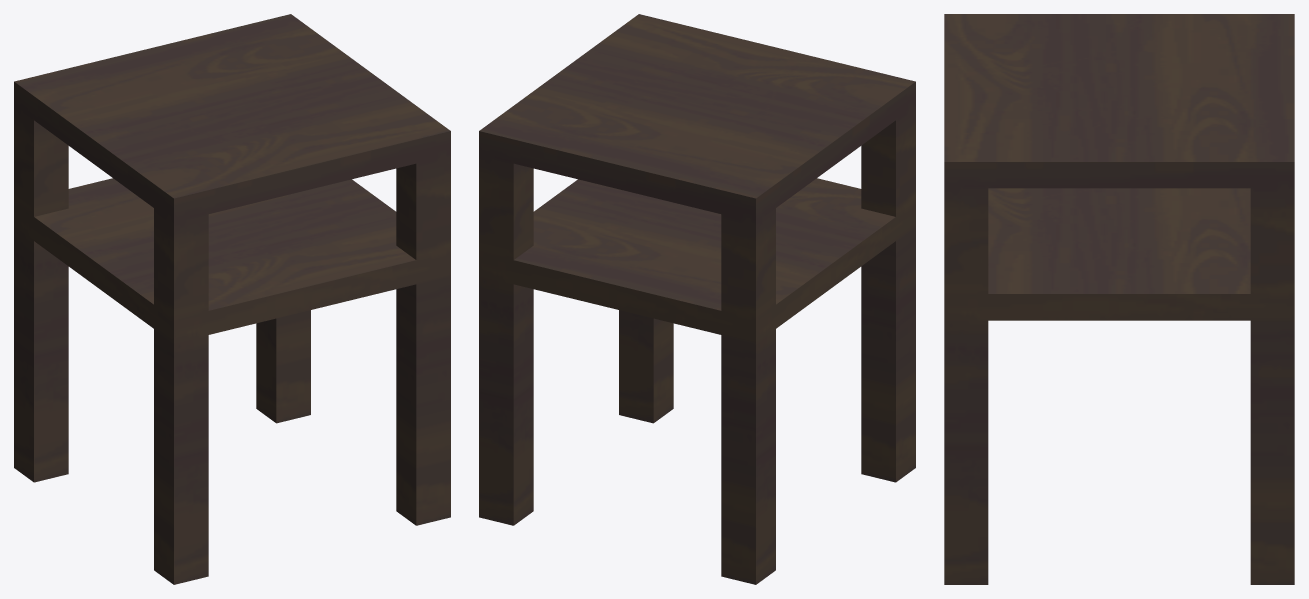
File: mini_table.fbx
3 renders of one model, left to right at view 1: azimuth 30°, elevation 25°; view 2: azimuth 150°, elevation 25°; view 3: azimuth 270°, elevation 25°, orthographic. The views are drawn at different scales.
Visible parts, largest first — view 1: mini_table.001; view 2: mini_table.001; view 3: mini_table.001.
Boxes of the visible parts, box(x1,y1,x2,y2) form: mini_table.001: box(14, 14, 450, 584); mini_table.001: box(479, 14, 915, 584); mini_table.001: box(944, 14, 1294, 584).
Bounding box in the file's own units: 0.5321 × 0.7094 × 0.5321.
1 material, 1 textured.
